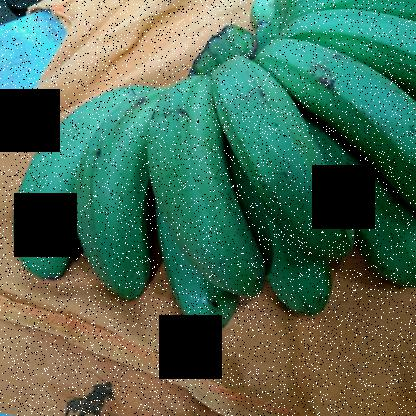freshunripe: (10, 76, 131, 276), (306, 115, 415, 293), (280, 6, 415, 95), (294, 0, 415, 23)
